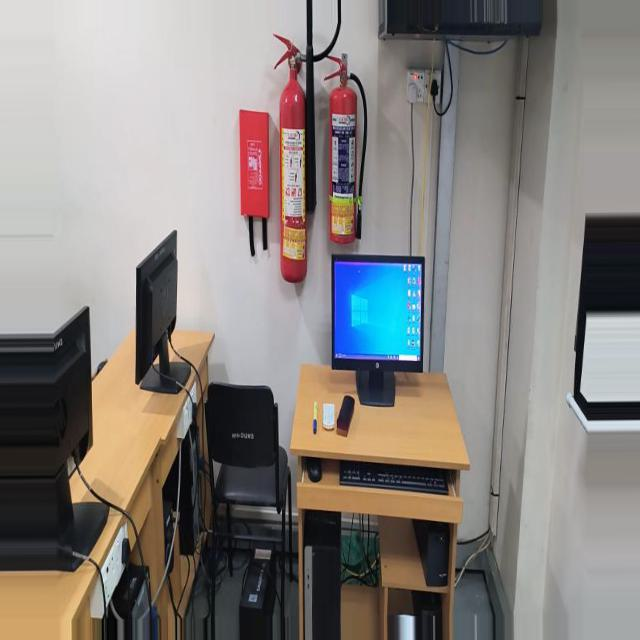Cpu: (297, 524, 343, 639), (526, 570, 579, 639), (468, 430, 491, 570), (490, 458, 510, 523)
Fire Extinguisher: (358, 386, 459, 527), (334, 15, 369, 279), (272, 34, 308, 238)
Keyboard: (167, 472, 298, 509)
Monitor: (574, 303, 640, 587), (195, 251, 306, 414), (479, 222, 542, 398)
Mouse: (319, 468, 340, 494)
